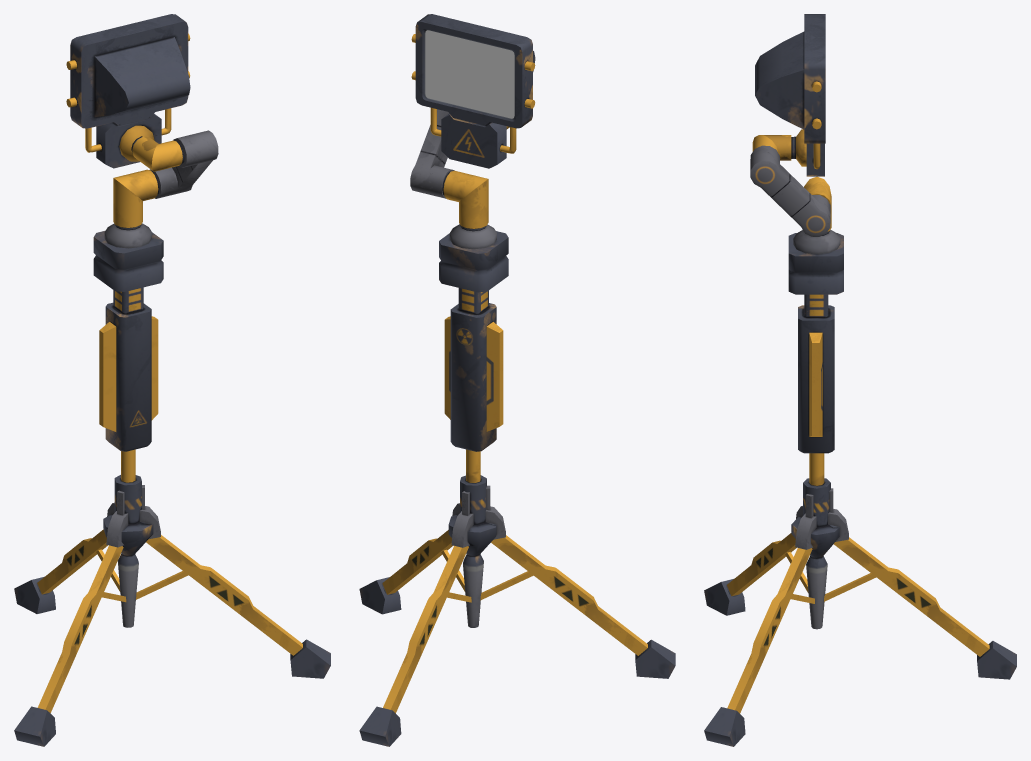
The model's file is Pfb_Soda_Tripod_LightOn.fbx.
3 views of the same model, side by side, from view 1: azimuth 30°, elevation 25°; view 2: azimuth 150°, elevation 25°; view 3: azimuth 270°, elevation 25° (orthographic).
Parts seen in each view (by area): view 1: Soda_Tripod; view 2: Soda_Tripod, TripodglassLight; view 3: Soda_Tripod.
Part boxes in pixels (x1,y1,x2,y2): Soda_Tripod: [14, 14, 330, 746]; Soda_Tripod: [359, 14, 675, 746]; TripodglassLight: [425, 30, 514, 118]; Soda_Tripod: [704, 14, 1016, 746].
Bounding box in the file's own units: 0.9492 × 1.84 × 0.822.
2 materials, 2 textured.
